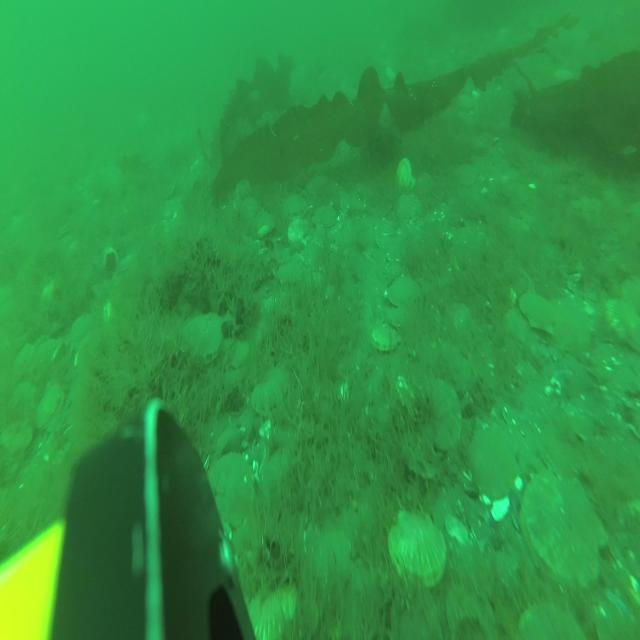holothurian: (248, 264, 274, 290)
scallop: (522, 469, 609, 592), (390, 505, 450, 588), (466, 424, 520, 501), (206, 452, 256, 528), (417, 380, 464, 453), (303, 524, 356, 588), (246, 582, 299, 640), (545, 302, 591, 355), (184, 310, 226, 361), (517, 291, 554, 337), (606, 296, 640, 345), (254, 369, 289, 412), (386, 272, 423, 311), (396, 191, 424, 229), (1, 421, 30, 457), (37, 385, 59, 432), (370, 318, 400, 352), (68, 317, 95, 354), (312, 205, 339, 233), (277, 260, 306, 286), (288, 215, 308, 245), (283, 194, 307, 216), (395, 156, 412, 186)
